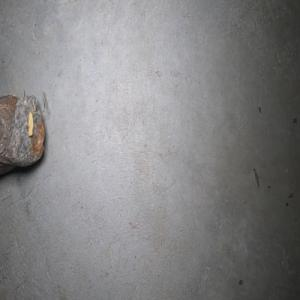Rock: (0, 90, 45, 175)
